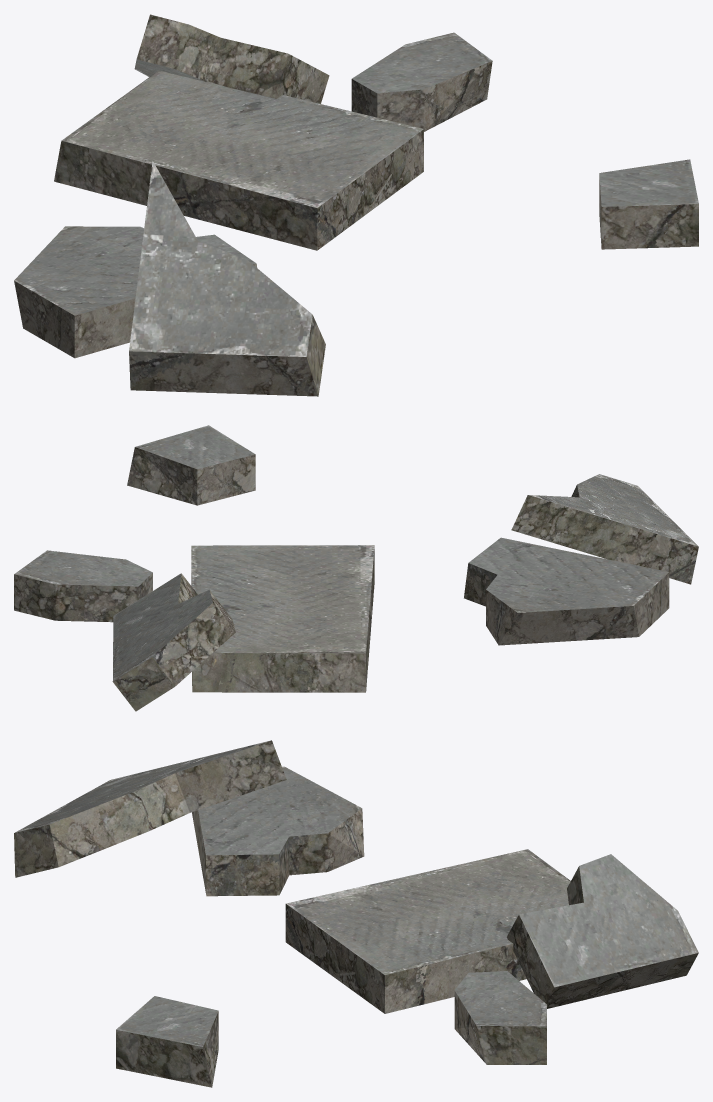
Rendered from bg_lut_lucastle_street07_sm_phs.FBX.
3 renders of one model, top to bottom at view 1: azimuth 30°, elevation 25°; view 2: azimuth 150°, elevation 25°; view 3: azimuth 270°, elevation 25°, orthographic. The views are drawn at different scales.
Visible parts, largest first — view 1: bg_lut_lucastle_street07_sm_phs; view 2: bg_lut_lucastle_street07_sm_phs; view 3: bg_lut_lucastle_street07_sm_phs.
Boxes of the visible parts, x1,y1,x2,y2 form: bg_lut_lucastle_street07_sm_phs: (14,14,698,396); bg_lut_lucastle_street07_sm_phs: (14,425,698,711); bg_lut_lucastle_street07_sm_phs: (14,740,698,1087).
Size of the model in its own units: 174 by 37.82 by 178.
